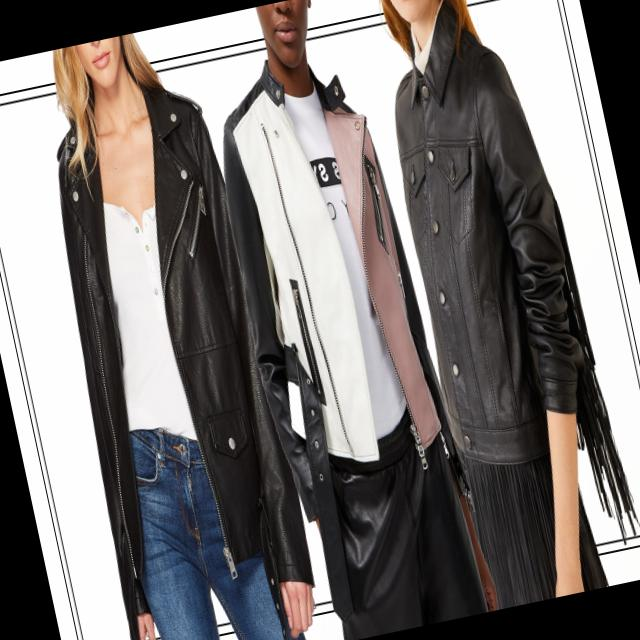Jacket: (13, 84, 324, 626), (363, 7, 640, 524), (200, 54, 460, 534)
